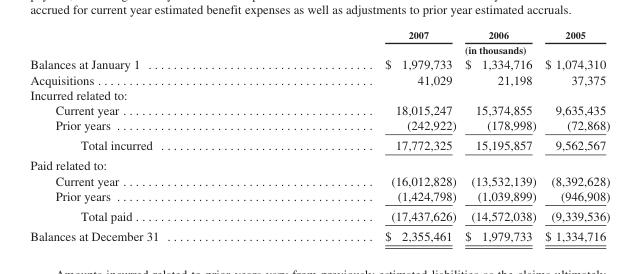table: (29, 28, 609, 242)
table column: (29, 28, 271, 242), (271, 28, 459, 242), (459, 28, 539, 242), (539, 28, 609, 242)
table column header: (29, 28, 609, 56)
table projected row header: (29, 154, 609, 172), (29, 86, 609, 101)
table row: (29, 134, 609, 154), (29, 205, 609, 225), (29, 154, 609, 172), (29, 187, 609, 205), (29, 117, 609, 134), (29, 225, 609, 242), (29, 101, 609, 117), (29, 56, 609, 71), (29, 71, 609, 86), (29, 86, 609, 101), (29, 172, 609, 187), (29, 28, 609, 42), (29, 42, 609, 56)
table spanning cell: (271, 42, 609, 56)
